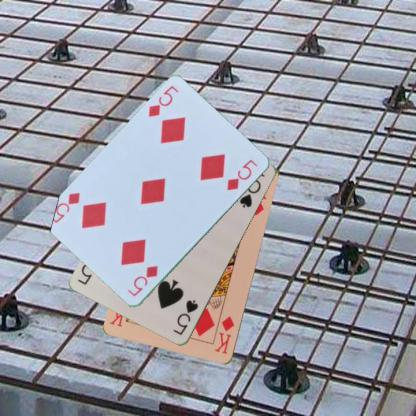5d: (125, 263, 159, 299), (146, 83, 180, 119)
5s: (170, 297, 200, 337)
Kd: (212, 314, 236, 355)
